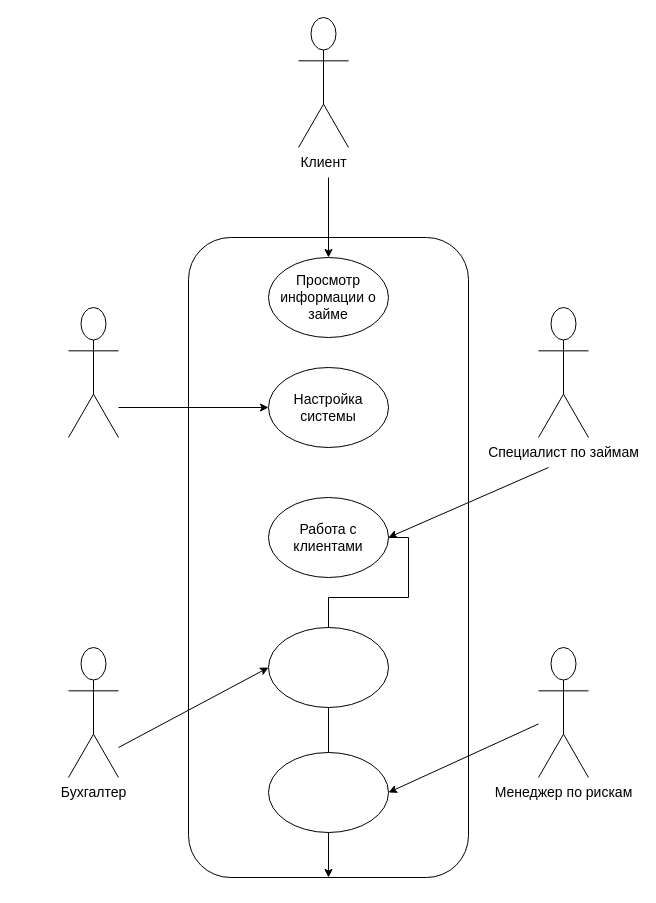
This 656x903 diagram has some shape labels left out. The box of each missing label's shape, as (x1, y1, x2, y2) in pixels:
Администатор системы: (68, 306, 118, 438)
Формирование отчета по рискам: (268, 752, 388, 832)
Формирование отчетов: (268, 626, 388, 708)
